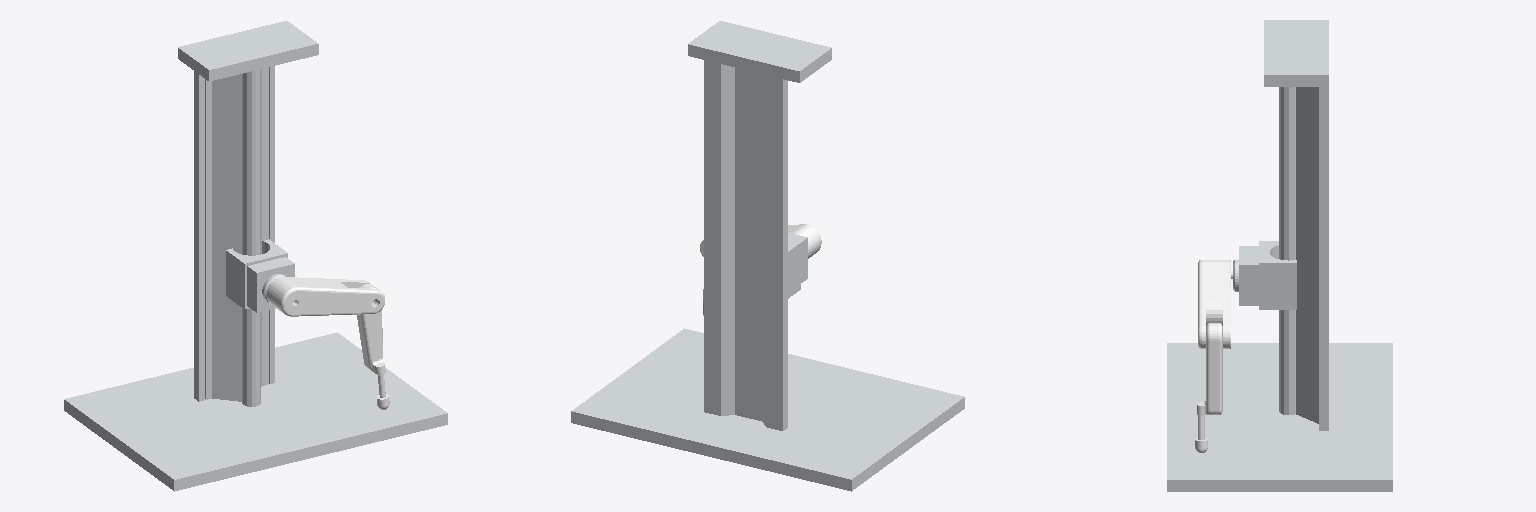
The robot description file, URDF, robot "Leg_assy":
<?xml version="1.0" encoding="utf-8"?>
<robot
  name="Leg_assy">
  <link
    name="base_link">
    <inertial>
      <origin
        xyz="4.18417382268018E-18 0.163442278735188 0.056349184966193"
        rpy="0 0 0" />
      <mass
        value="16.5734400005168" />
      <inertia
        ixx="0.599382842220564"
        ixy="3.31258999878971E-19"
        ixz="-9.5745694021733E-19"
        iyy="0.314369255307197"
        iyz="0.0543747383319666"
        izz="0.69835214185245" />
    </inertial>
    <visual>
      <origin
        xyz="0 0 0"
        rpy="0 0 0" />
      <geometry>
        <mesh
          filename="package://Leg_assy/meshes/base_link.STL" />
      </geometry>
      <material
        name="">
        <color
          rgba="0.898039215686275 0.917647058823529 0.929411764705882 1" />
      </material>
    </visual>
    <collision>
      <origin
        xyz="0 0 0"
        rpy="0 0 0" />
      <geometry>
        <mesh
          filename="package://Leg_assy/meshes/base_link.STL" />
      </geometry>
    </collision>
  </link>
  <link
    name="L1">
    <inertial>
      <origin
        xyz="2.36400915256451E-06 0.0399905182025553 0.0431593419729566"
        rpy="0 0 0" />
      <mass
        value="1.01682415477747" />
      <inertia
        ixx="0.000888667138585407"
        ixy="5.96051078342825E-08"
        ixz="2.85100543877057E-09"
        iyy="0.00102361992372075"
        iyz="-1.14275040492286E-08"
        izz="0.00107797593182006" />
    </inertial>
    <visual>
      <origin
        xyz="0 0 0"
        rpy="0 0 0" />
      <geometry>
        <mesh
          filename="package://Leg_assy/meshes/L1.STL" />
      </geometry>
      <material
        name="">
        <color
          rgba="0.898039215686275 0.917647058823529 0.929411764705882 1" />
      </material>
    </visual>
    <collision>
      <origin
        xyz="0 0 0"
        rpy="0 0 0" />
      <geometry>
        <mesh
          filename="package://Leg_assy/meshes/L1.STL" />
      </geometry>
    </collision>
  </link>
  <joint
    name="J1"
    type="prismatic">
    <origin
      xyz="0 -0.061213 0.21128"
      rpy="1.5708 0 0" />
    <parent
      link="base_link" />
    <child
      link="L1" />
    <axis
      xyz="0 -1 0" />
    <limit
      lower="0"
      upper="0"
      effort="0"
      velocity="0" />
  </joint>
  <link
    name="L2">
    <inertial>
      <origin
        xyz="0.0577555492395793 0.0248483960703704 -2.77555756156289E-17"
        rpy="0 0 0" />
      <mass
        value="0.358735867858246" />
      <inertia
        ixx="0.000142844334105728"
        ixy="7.36856791102412E-07"
        ixz="-9.82546248751865E-20"
        iyy="0.000894202221209064"
        iyz="2.65909935103524E-20"
        izz="0.000915364185998044" />
    </inertial>
    <visual>
      <origin
        xyz="0 0 0"
        rpy="0 0 0" />
      <geometry>
        <mesh
          filename="package://Leg_assy/meshes/L2.STL" />
      </geometry>
      <material
        name="">
        <color
          rgba="1 1 1 1" />
      </material>
    </visual>
    <collision>
      <origin
        xyz="0 0 0"
        rpy="0 0 0" />
      <geometry>
        <mesh
          filename="package://Leg_assy/meshes/L2.STL" />
      </geometry>
    </collision>
  </link>
  <joint
    name="J2"
    type="continuous">
    <origin
      xyz="0 0.04 0.09"
      rpy="1.5708 0 -0.23244" />
    <parent
      link="L1" />
    <child
      link="L2" />
    <axis
      xyz="0 1 0" />
  </joint>
  <link
    name="L3">
    <inertial>
      <origin
        xyz="-0.081820360738164 0.0187783528182829 1.85004105923703E-08"
        rpy="0 0 0" />
      <mass
        value="0.163006715229028" />
      <inertia
        ixx="1.75272334572335E-05"
        ixy="3.15450583016002E-06"
        ixz="1.86218179383575E-10"
        iyy="0.000219079773110987"
        iyz="-4.68217074040256E-11"
        izz="0.000215227112014871" />
    </inertial>
    <visual>
      <origin
        xyz="0 0 0"
        rpy="0 0 0" />
      <geometry>
        <mesh
          filename="package://Leg_assy/meshes/L3.STL" />
      </geometry>
      <material
        name="">
        <color
          rgba="1 1 1 1" />
      </material>
    </visual>
    <collision>
      <origin
        xyz="0 0 0"
        rpy="0 0 0" />
      <geometry>
        <mesh
          filename="package://Leg_assy/meshes/L3.STL" />
      </geometry>
    </collision>
  </link>
  <joint
    name="J3"
    type="continuous">
    <origin
      xyz="0.15 0.0125 0"
      rpy="3.1416 1.2453 -3.1416" />
    <parent
      link="L2" />
    <child
      link="L3" />
    <axis
      xyz="0 -1 0" />
  </joint>
</robot>

--- What the picture shows (computed from the rendered views, not written in the file) ---
3 views of the same robot in one strip: view 1: azimuth 30°, elevation 25°; view 2: azimuth 150°, elevation 25°; view 3: azimuth 270°, elevation 25° (orthographic).
Model Leg_assy with 4 links and 3 joints (2 continuous, 1 prismatic), rooted at base_link, posed every joint at zero.
Links seen in each view (by area): view 1: base_link, L2, L1, L3; view 2: base_link, L1, L2; view 3: base_link, L1, L2, L3.
Boxes of the visible links, x1,y1,x2,y2 form: base_link: [64, 21, 447, 491]; L2: [267, 277, 384, 316]; L1: [226, 239, 294, 312]; L3: [357, 284, 389, 409]; base_link: [571, 21, 964, 491]; L1: [788, 233, 807, 298]; L2: [700, 224, 821, 258]; base_link: [1167, 20, 1392, 491]; L1: [1231, 241, 1296, 309]; L2: [1198, 260, 1230, 348]; L3: [1195, 323, 1222, 452].
Bounding box of the posed robot: 0.5 × 0.35 × 0.64 m (x, y, z).
4 mesh visuals loaded from 4 distinct referenced files (4 binary STL).